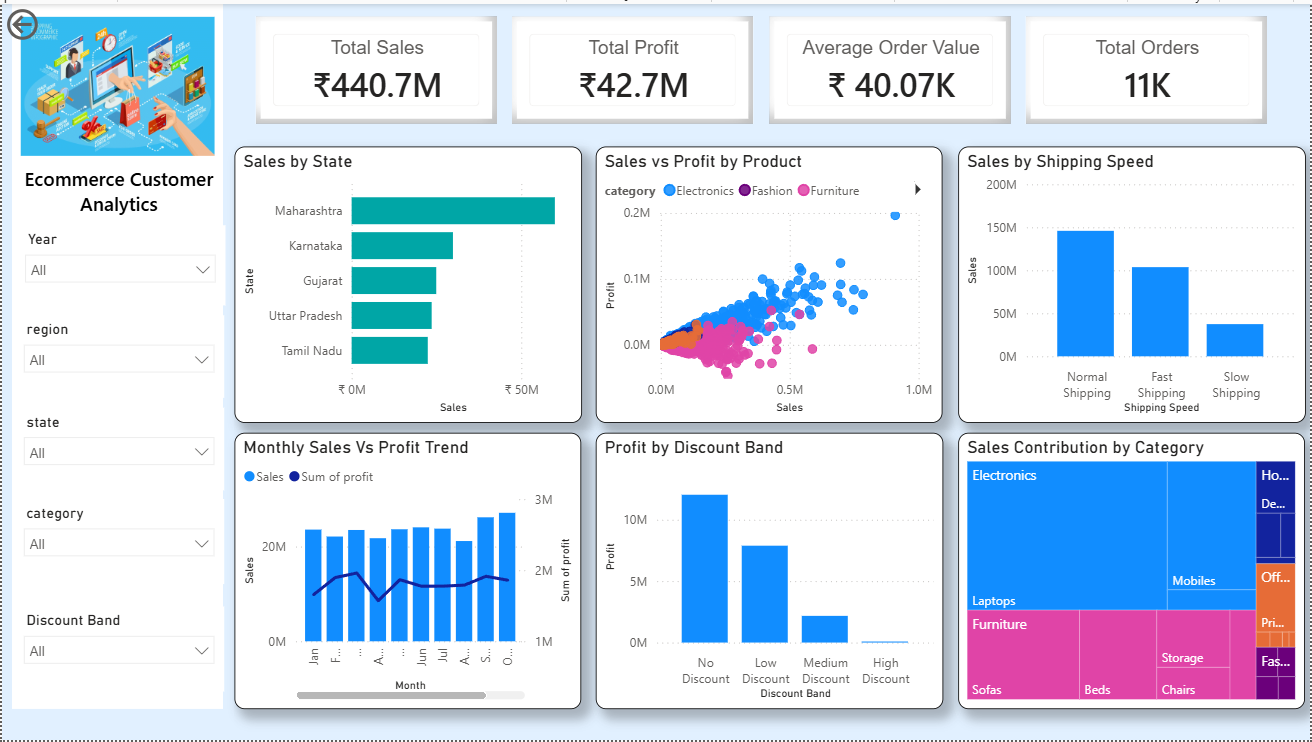

Layout of this report page (visuals, bound fields, positions):
{"tool":"powerbi","page":{"name":"Sales Analysis","canvas":[1280,720],"ordinal":1},"visuals":[{"type":"shape","box":[9.8,0,206.7,689.7],"z":0},{"type":"image","box":[18.3,8.6,189.5,144.3],"z":1000},{"type":"textbox","box":[14.7,152.9,199.3,63.6],"z":2000},{"type":"cardVisual","title":"Total Sales ","fields":{"Data":["clean_orders.Total Sales Display"]},"box":[248.2,12.2,236,105.2],"z":3000},{"type":"cardVisual","title":"Total Sales ","fields":{"Data":["clean_orders.Total Orders"]},"box":[1001,12.2,236,105.2],"z":4000},{"type":"cardVisual","title":"Total Sales ","fields":{"Data":["clean_orders.Total Profit"]},"box":[499,12.2,236,105.2],"z":5000},{"type":"cardVisual","title":"Total Sales ","fields":{"Data":["clean_orders.Average Order Value"]},"box":[750.8,12.2,236,105.2],"z":6000},{"type":"clusteredBarChart","title":"Sales by State","fields":{"Y":["Sum(clean_orders.sales)"],"Category":["clean_orders.state"]},"box":[227.4,139.4,339.9,270.2],"z":7000},{"type":"lineClusteredColumnComboChart","title":"Monthly Sales Vs Profit Trend","fields":{"Category":["clean_orders.Month Name"],"Y":["Sum(clean_orders.sales)"],"Y2":["Sum(clean_orders.profit)"]},"box":[227.4,419.4,339,270],"z":8000},{"type":"scatterChart","title":"Sales vs Profit by Product","fields":{"Y":["clean_orders.profit"],"Series":["clean_orders.category"],"X":["Sum(clean_orders.sales)"]},"box":[581,139.4,339,270.2],"z":9000},{"type":"actionButton","box":[0,0,100,40],"z":9001},{"type":"clusteredColumnChart","title":"Profit by Discount Band ","fields":{"Category":["clean_orders.Discount Band"],"Y":["Sum(clean_orders.profit)"]},"box":[581,419.4,339.9,270.2],"z":9002},{"type":"clusteredColumnChart","title":"Sales by Shipping Speed","fields":{"Category":["clean_orders.Shipping Speed"],"Y":["Sum(clean_orders.sales)"]},"box":[935,139.4,339.9,270.2],"z":9003},{"type":"treemap","title":"Sales Contribution by Category","fields":{"Group":["clean_orders.category"],"Details":["clean_orders.sub_category"],"Values":["Sum(clean_orders.sales)"]},"box":[935,419.4,339,270.2],"z":9004},{"type":"slicer","fields":{"Values":["clean_orders.order_year"]},"box":[12.2,216.4,206.7,78.3],"z":9005},{"type":"slicer","fields":{"Values":["clean_orders.Region"]},"box":[11,304.5,206.7,80.7],"z":9006},{"type":"slicer","fields":{"Values":["clean_orders.state"]},"box":[11,395,206.7,80.7],"z":9007},{"type":"slicer","fields":{"Values":["clean_orders.category"]},"box":[11,484.2,206.7,83.2],"z":9008},{"type":"slicer","fields":{"Values":["clean_orders.Discount Band"]},"box":[11,589.4,206.7,83.2],"z":9009}]}

Visuals, with their boxes in screenshot pixels (x1, y1, x2, y2), scaled from the page's 1280x720 canvas onto the 1312x742 screenshot:
shape: {"left": 10, "top": 0, "right": 222, "bottom": 711}
image: {"left": 19, "top": 9, "right": 213, "bottom": 158}
textbox: {"left": 15, "top": 158, "right": 219, "bottom": 223}
"Total Sales " cardVisual: {"left": 254, "top": 13, "right": 496, "bottom": 121}
"Total Sales " cardVisual: {"left": 1026, "top": 13, "right": 1268, "bottom": 121}
"Total Sales " cardVisual: {"left": 511, "top": 13, "right": 753, "bottom": 121}
"Total Sales " cardVisual: {"left": 770, "top": 13, "right": 1011, "bottom": 121}
"Sales by State" clusteredBarChart: {"left": 233, "top": 144, "right": 581, "bottom": 422}
"Monthly Sales Vs Profit Trend" lineClusteredColumnComboChart: {"left": 233, "top": 432, "right": 581, "bottom": 710}
"Sales vs Profit by Product" scatterChart: {"left": 596, "top": 144, "right": 943, "bottom": 422}
actionButton: {"left": 0, "top": 0, "right": 102, "bottom": 41}
"Profit by Discount Band " clusteredColumnChart: {"left": 596, "top": 432, "right": 944, "bottom": 711}
"Sales by Shipping Speed" clusteredColumnChart: {"left": 958, "top": 144, "right": 1307, "bottom": 422}
"Sales Contribution by Category" treemap: {"left": 958, "top": 432, "right": 1306, "bottom": 711}
slicer - clean_orders.order_year: {"left": 13, "top": 223, "right": 224, "bottom": 304}
slicer - clean_orders.Region: {"left": 11, "top": 314, "right": 223, "bottom": 397}
slicer - clean_orders.state: {"left": 11, "top": 407, "right": 223, "bottom": 490}
slicer - clean_orders.category: {"left": 11, "top": 499, "right": 223, "bottom": 585}
slicer - clean_orders.Discount Band: {"left": 11, "top": 607, "right": 223, "bottom": 693}
